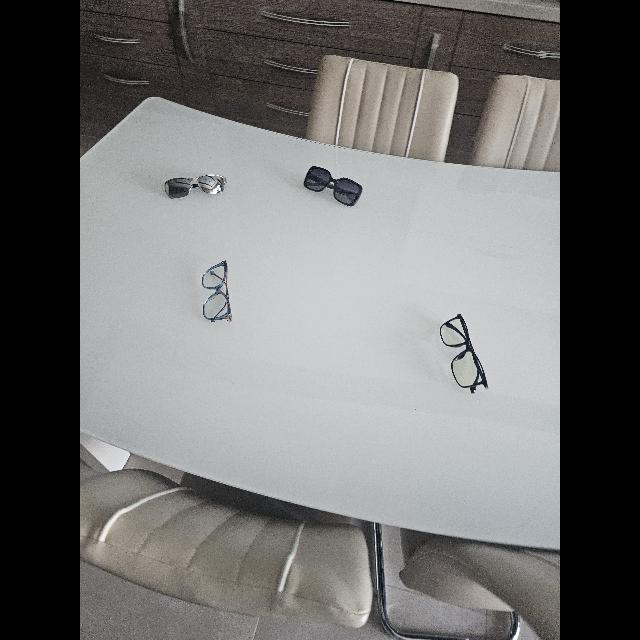Sunglasses: (304, 166, 362, 206), (162, 174, 226, 198)
glasses: (440, 314, 488, 394), (202, 260, 232, 322)
